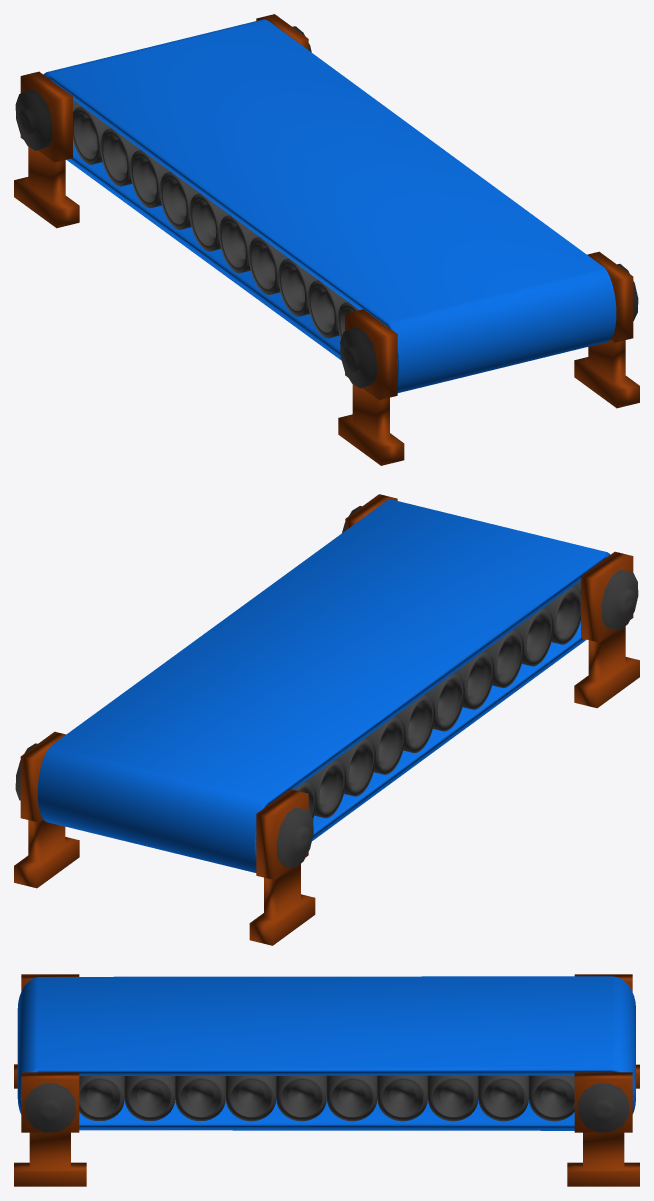
Rendered from LineSell.fbx.
3 views of the same model, one above another, from view 1: azimuth 30°, elevation 25°; view 2: azimuth 150°, elevation 25°; view 3: azimuth 270°, elevation 25° (orthographic). The views are drawn at different scales.
Parts seen in each view (by area): view 1: Line, Cill, Cube.003, Cube.002, Cube; view 2: Line, Cill, Cube.002, Cube.003, Cube.001; view 3: Line, Cill, Cube, Cube.001, Cube.002, Cube.003.
Boxes of the visible parts, x1=… form: Line: x1=43, y1=19, x2=616, y2=392; Cill: x1=73, y1=100, x2=358, y2=338; Cube.003: x1=338, y1=309, x2=404, y2=465; Cube.002: x1=14, y1=71, x2=79, y2=228; Cube: x1=574, y1=251, x2=639, y2=408; Line: x1=37, y1=499, x2=610, y2=872; Cill: x1=294, y1=580, x2=580, y2=818; Cube.002: x1=249, y1=789, x2=315, y2=945; Cube.003: x1=574, y1=551, x2=639, y2=708; Cube.001: x1=14, y1=731, x2=79, y2=888; Line: x1=17, y1=976, x2=635, y2=1130; Cill: x1=79, y1=1075, x2=574, y2=1121; Cube: x1=14, y1=1072, x2=86, y2=1186; Cube.001: x1=567, y1=1072, x2=639, y2=1186; Cube.002: x1=574, y1=974, x2=639, y2=1088; Cube.003: x1=14, y1=974, x2=79, y2=1088.
Size of the model in its own units: 770 by 345 by 1755.
